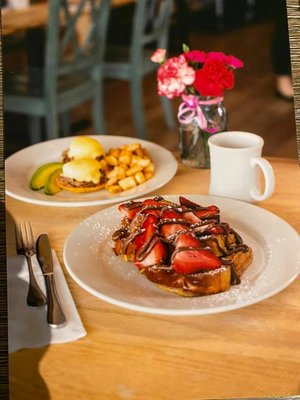burger: (18, 219, 46, 307)
pizza: (207, 130, 274, 203)
sandwich: (18, 218, 45, 306)
